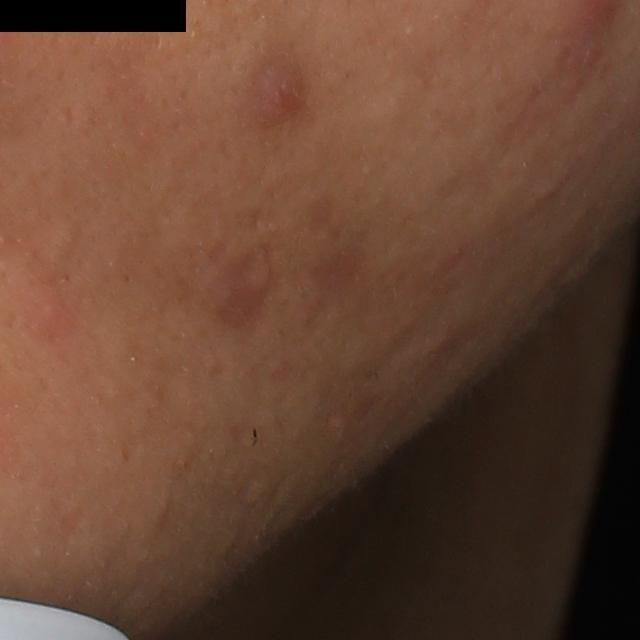comedo: (529, 180, 564, 206)
papule: (251, 57, 304, 130), (21, 289, 71, 347)
